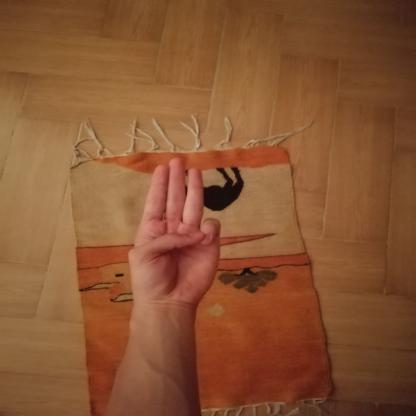THA: (115, 150, 235, 313)
